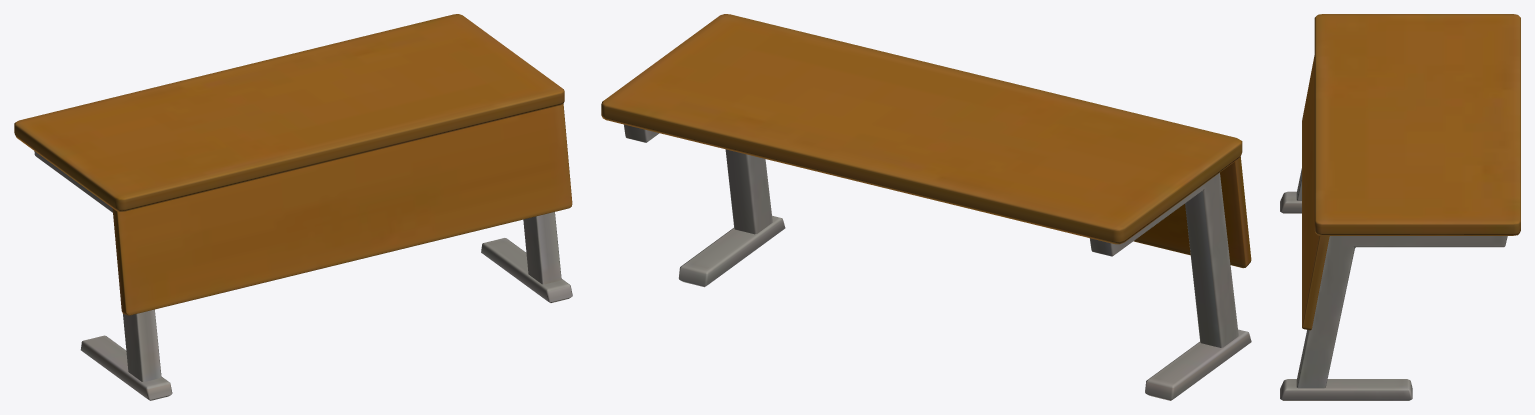
3 renders of one model, left to right at view 1: azimuth 30°, elevation 25°; view 2: azimuth 150°, elevation 25°; view 3: azimuth 270°, elevation 25°, orthographic. The views are drawn at different scales.
Bounding box in the file's own units: 20 × 8.2 × 9.69.
Materials: 1 (1 with a texture image).
